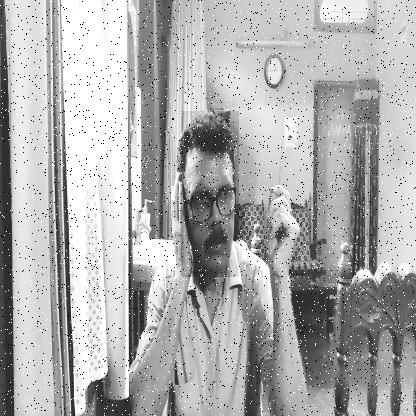Distracted: (181, 111, 239, 277)
